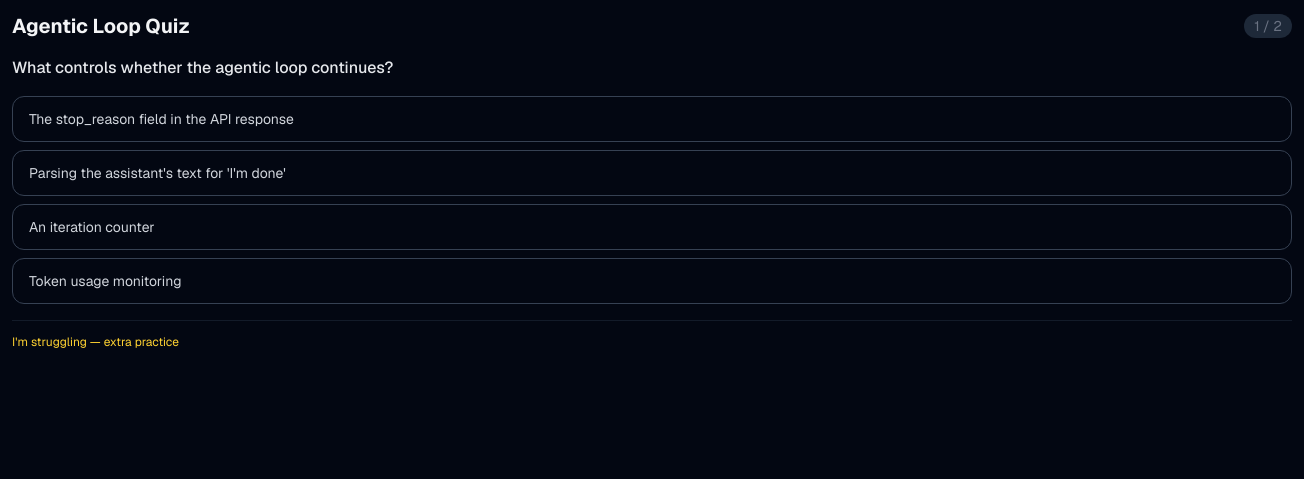
it: QuizCard › shows misconception text on wrong answer when available
Click the button "Parsing the assistant's text for 'I'm done'": (157,173) [12,150,1292,196]
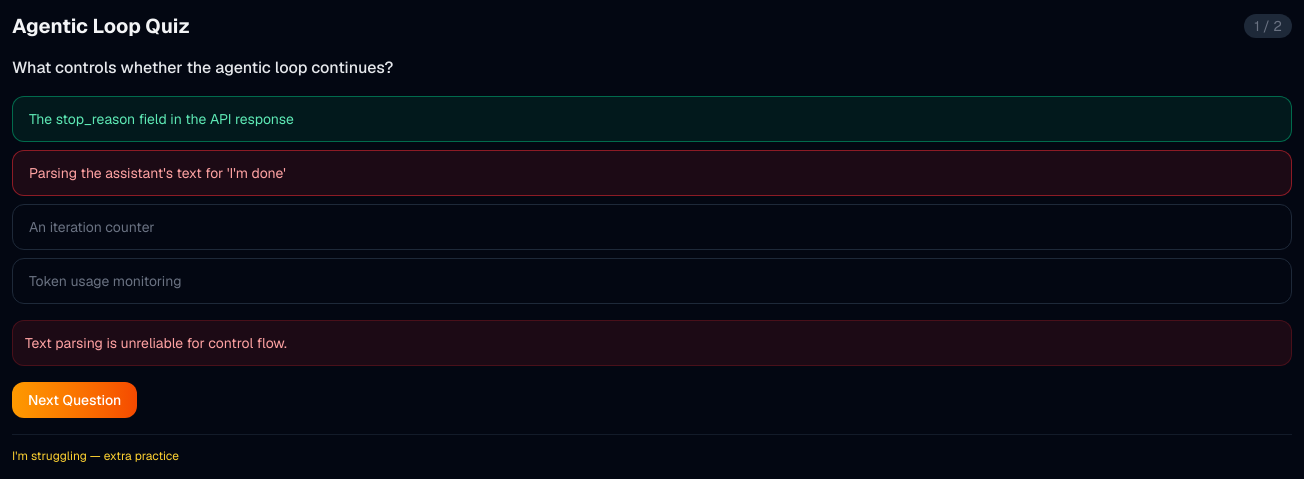
Result: the text "Text parsing is unreliable for control flow." is shown at [12,320,1292,366]
